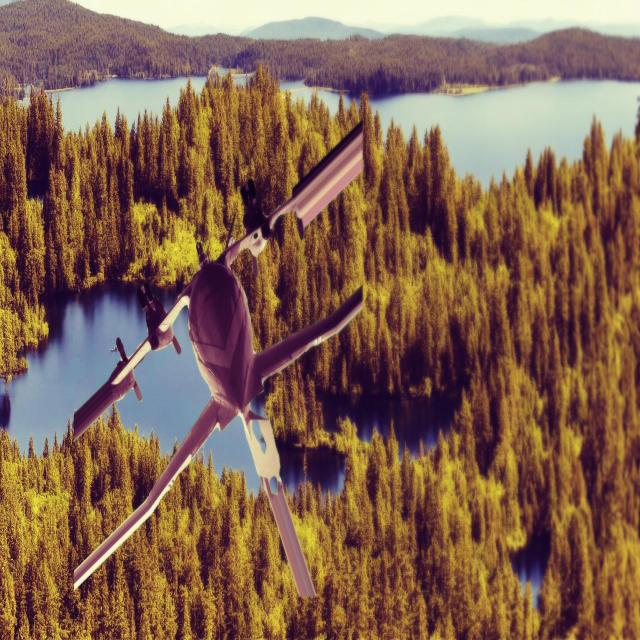airplane: (71, 117, 365, 599)
